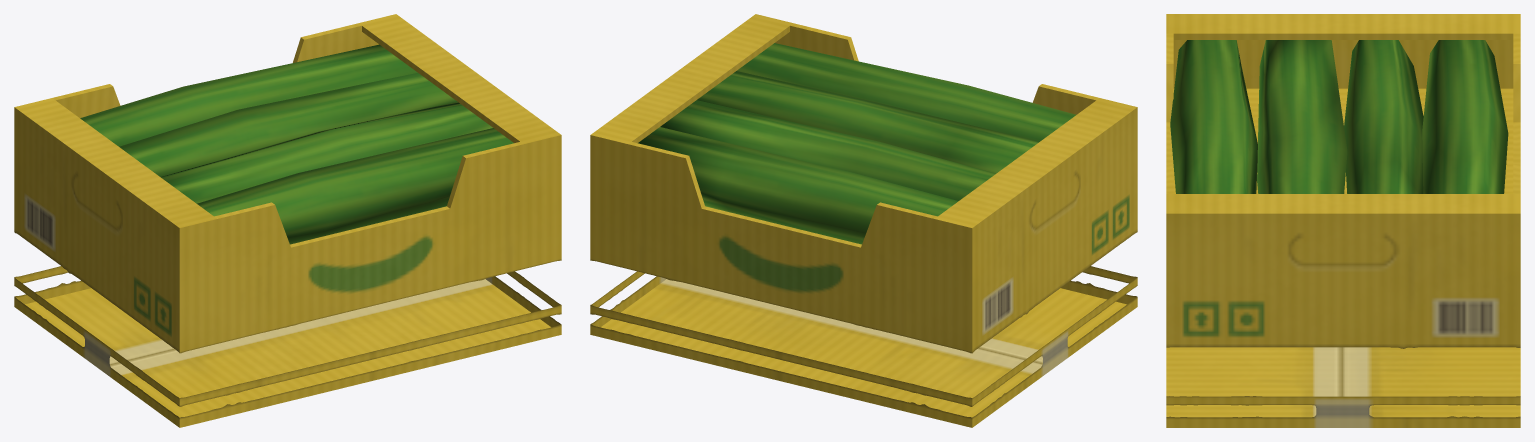
The model's file is p_mesh_cucumberbox.fbx.
The picture shows the model from 3 angles, left to right: view 1: azimuth 30°, elevation 25°; view 2: azimuth 150°, elevation 25°; view 3: azimuth 270°, elevation 25°; orthographic projection. The views are drawn at different scales.
Parts seen in each view (by area): view 1: obj_containers_cucmberbox; view 2: obj_containers_cucmberbox; view 3: obj_containers_cucmberbox.
Part boxes in pixels (x1=…): obj_containers_cucmberbox: x1=14, y1=14, x2=561, y2=427; obj_containers_cucmberbox: x1=590, y1=14, x2=1137, y2=427; obj_containers_cucmberbox: x1=1166, y1=14, x2=1520, y2=427.
Size of the model in its own units: 4 by 2 by 3.
